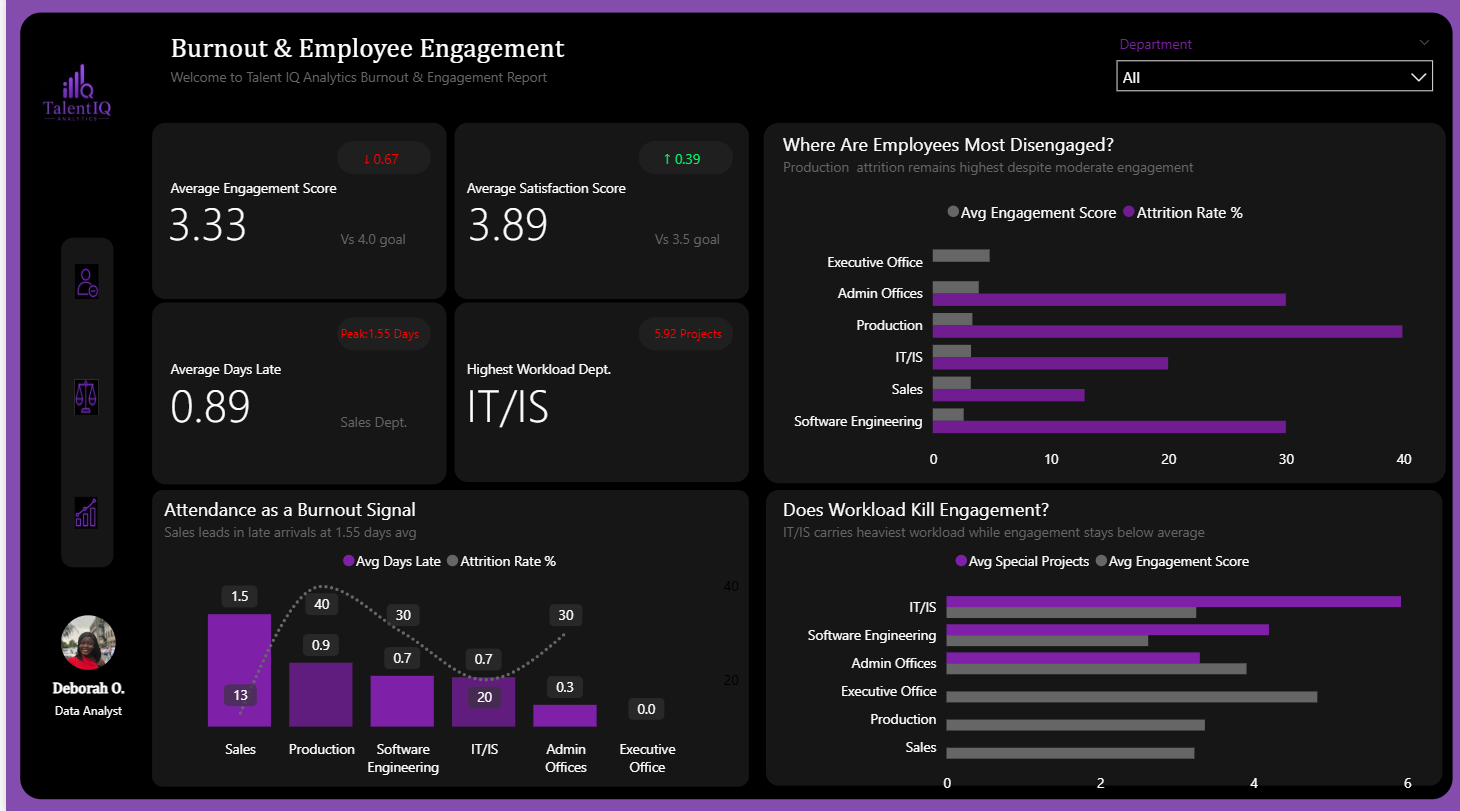

What the dashboard file says about the page in this screenshot:
{"tool":"powerbi","page":{"name":"Dashboard 3","canvas":[1280,720],"ordinal":2},"visuals":[{"type":"card","fields":{"Values":["hr_employees_cleaned.Avg Engagement Score"]},"box":[129.8,169,96.4,59.5],"z":0},{"type":"textbox","box":[139.3,153.6,173.8,29.8],"z":1000},{"type":"textbox","box":[279.8,128.6,101.2,40.5],"z":2000},{"type":"textbox","box":[289.3,198.8,82.1,29.8],"z":3000},{"type":"card","fields":{"Values":["hr_employees_cleaned.Avg Satisfaction Score"]},"box":[400,169,83.3,59.5],"z":4000},{"type":"textbox","box":[400,153.6,176.2,29.8],"z":5000},{"type":"textbox","box":[548.8,128.6,91.7,40.5],"z":6000},{"type":"textbox","box":[548.8,198.8,101.2,29.8],"z":7000},{"type":"card","fields":{"Values":["hr_employees_cleaned.Avg Days Late"]},"box":[134.5,328.6,91.7,60.7],"z":8000},{"type":"textbox","box":[139.3,313.1,110.7,29.8],"z":9000},{"type":"textbox","box":[289.3,281,82.1,32.1],"z":10000},{"type":"textbox","box":[289.3,359.5,82.1,29.8],"z":11000},{"type":"card","fields":{"Values":["hr_employees_cleaned.Most Overloaded Dept"]},"box":[400,328.6,83.3,60.7],"z":12000},{"type":"textbox","box":[400,313.1,148.8,29.8],"z":13000},{"type":"textbox","box":[565.5,281,84.5,32.1],"z":14000},{"type":"clusteredBarChart","fields":{"Category":["hr_employees_cleaned.department"],"Y":["hr_employees_cleaned.Avg Engagement Score","hr_employees_cleaned.Attrition Rate %"]},"box":[678.6,169,563.1,256],"z":15000},{"type":"textbox","box":[678.6,114.3,563.1,69],"z":16000},{"type":"clusteredBarChart","fields":{"Category":["hr_employees_cleaned.department"],"Y":["hr_employees_cleaned.Avg Special Projects","hr_employees_cleaned.Avg Engagement Score"]},"box":[690.5,477.4,551.2,233.3],"z":17000},{"type":"textbox","box":[678.6,435.7,586.9,52.4],"z":18000},{"type":"lineClusteredColumnComboChart","fields":{"Category":["hr_employees_cleaned.department"],"Y":["hr_employees_cleaned.Avg Days Late"],"Y2":["hr_employees_cleaned.Attrition Rate %"]},"box":[134.5,477.4,515.5,216.7],"z":19000},{"type":"textbox","box":[134.5,435.7,515.5,52.4],"z":20000},{"type":"slicer","fields":{"Values":["hr_employees_cleaned.department"]},"box":[966.7,28.6,298.8,77.4],"z":21000},{"type":"textbox","box":[139.3,28.6,781,77.4],"z":22000},{"type":"actionButton","box":[60.7,238.1,22.6,32.1],"z":23000},{"type":"actionButton","box":[60.7,342.9,22.6,26.2],"z":24000},{"type":"image","box":[48.8,542.9,47.6,51.2],"z":24001},{"type":"textbox","box":[31,594.1,83.3,66.7],"z":24002}]}

Visuals, with their boxes in screenshot pixels (x1, y1, x2, y2), scaled from the page's 1280x720 canvas onto the 1460x811 screenshot:
card - hr_employees_cleaned.Avg Engagement Score: <box>148,190,258,257</box>
textbox: <box>159,173,357,207</box>
textbox: <box>319,145,435,190</box>
textbox: <box>330,224,424,257</box>
card - hr_employees_cleaned.Avg Satisfaction Score: <box>456,190,551,257</box>
textbox: <box>456,173,657,207</box>
textbox: <box>626,145,731,190</box>
textbox: <box>626,224,741,257</box>
card - hr_employees_cleaned.Avg Days Late: <box>153,370,258,439</box>
textbox: <box>159,353,285,386</box>
textbox: <box>330,317,424,353</box>
textbox: <box>330,405,424,439</box>
card - hr_employees_cleaned.Most Overloaded Dept: <box>456,370,551,439</box>
textbox: <box>456,353,626,386</box>
textbox: <box>645,317,741,353</box>
clusteredBarChart - hr_employees_cleaned.department x hr_employees_cleaned.Avg Engagement Score: <box>774,190,1416,479</box>
textbox: <box>774,129,1416,206</box>
clusteredBarChart - hr_employees_cleaned.department x hr_employees_cleaned.Avg Special Projects: <box>788,538,1416,801</box>
textbox: <box>774,491,1443,550</box>
lineClusteredColumnComboChart - hr_employees_cleaned.department x hr_employees_cleaned.Avg Days Late: <box>153,538,741,782</box>
textbox: <box>153,491,741,550</box>
slicer - hr_employees_cleaned.department: <box>1103,32,1443,119</box>
textbox: <box>159,32,1050,119</box>
actionButton: <box>69,268,95,304</box>
actionButton: <box>69,386,95,416</box>
image: <box>56,612,110,669</box>
textbox: <box>35,669,130,744</box>
